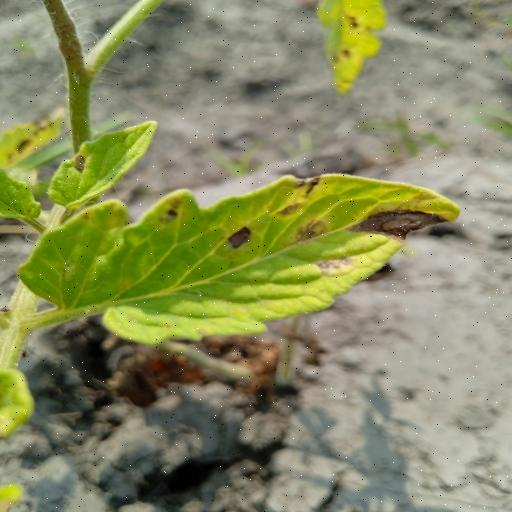Tomato_Brown_Spots: (12, 172, 464, 350)
